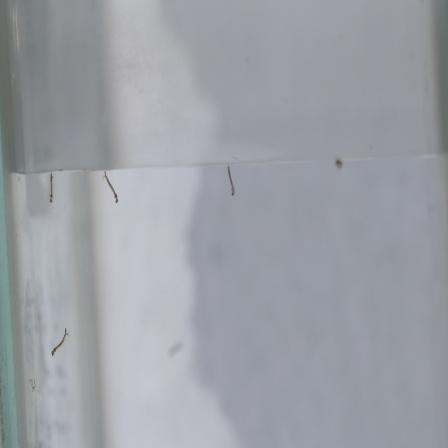Jentik-Nyamuk: (98, 169, 123, 207), (46, 323, 72, 357), (219, 164, 242, 201), (40, 167, 61, 206)
